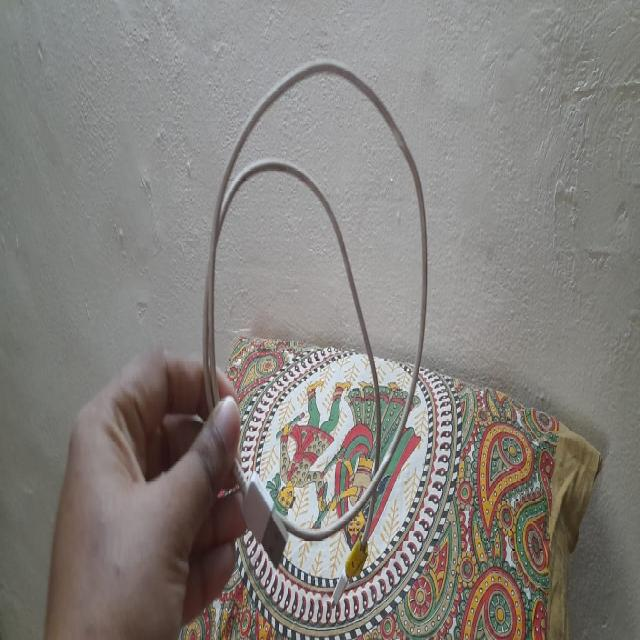Charger - Recyclable: (201, 59, 429, 587)
